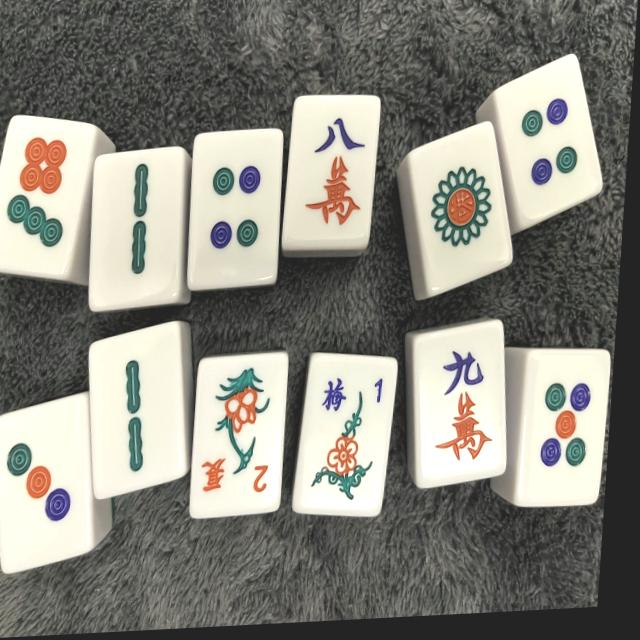f1: (294, 347, 398, 513)
ff2: (189, 353, 291, 522)
m8: (285, 97, 381, 245)
m9: (404, 322, 516, 486)
s2: (83, 322, 200, 502), (85, 146, 192, 314)
t1: (399, 119, 524, 300)
t3: (0, 394, 102, 578)
t4: (484, 53, 614, 236), (183, 126, 285, 291)
t5: (517, 344, 610, 510)
t7: (0, 112, 102, 287)
